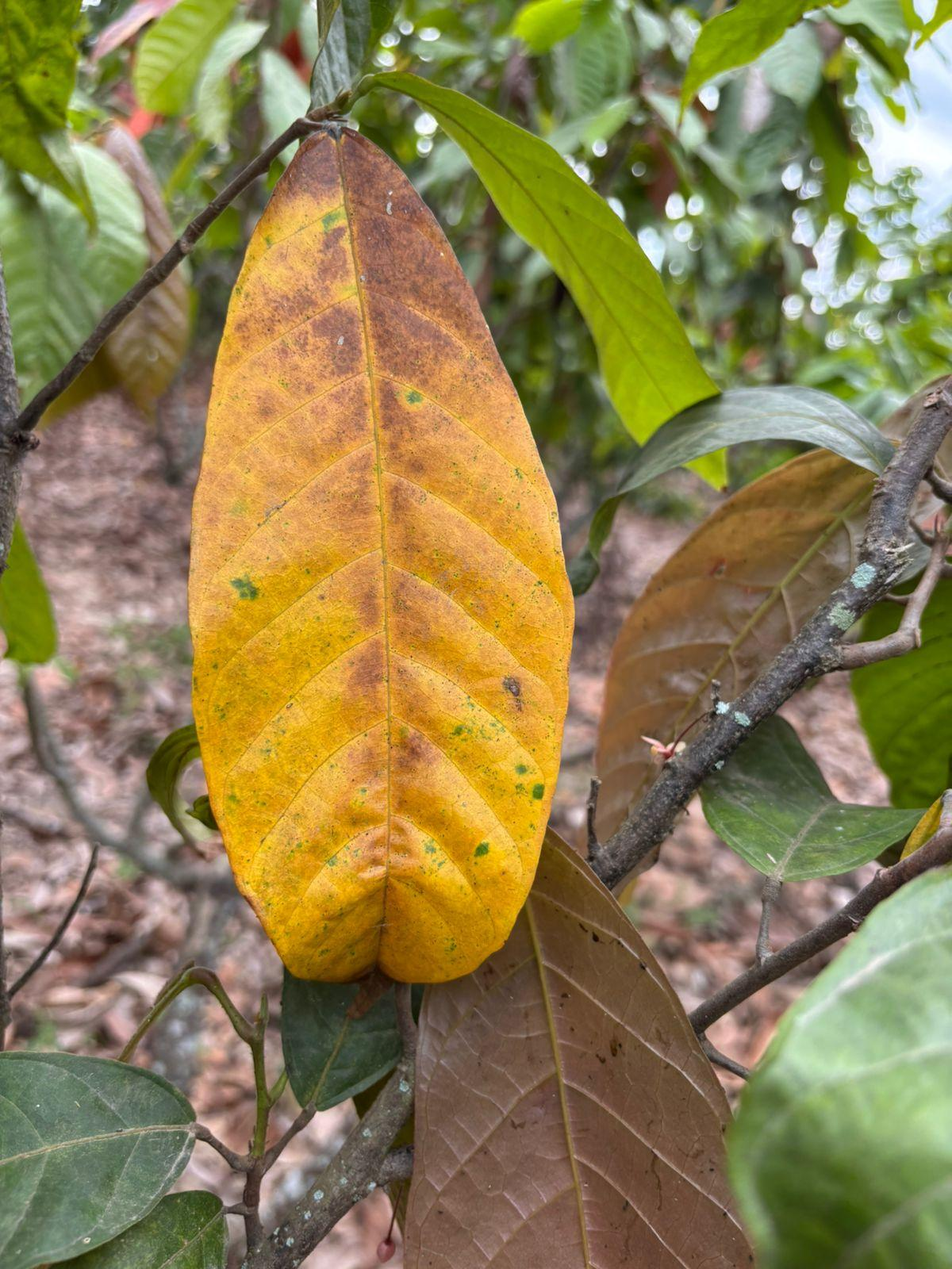deficienciia_fosforo: (189, 125, 572, 982)
